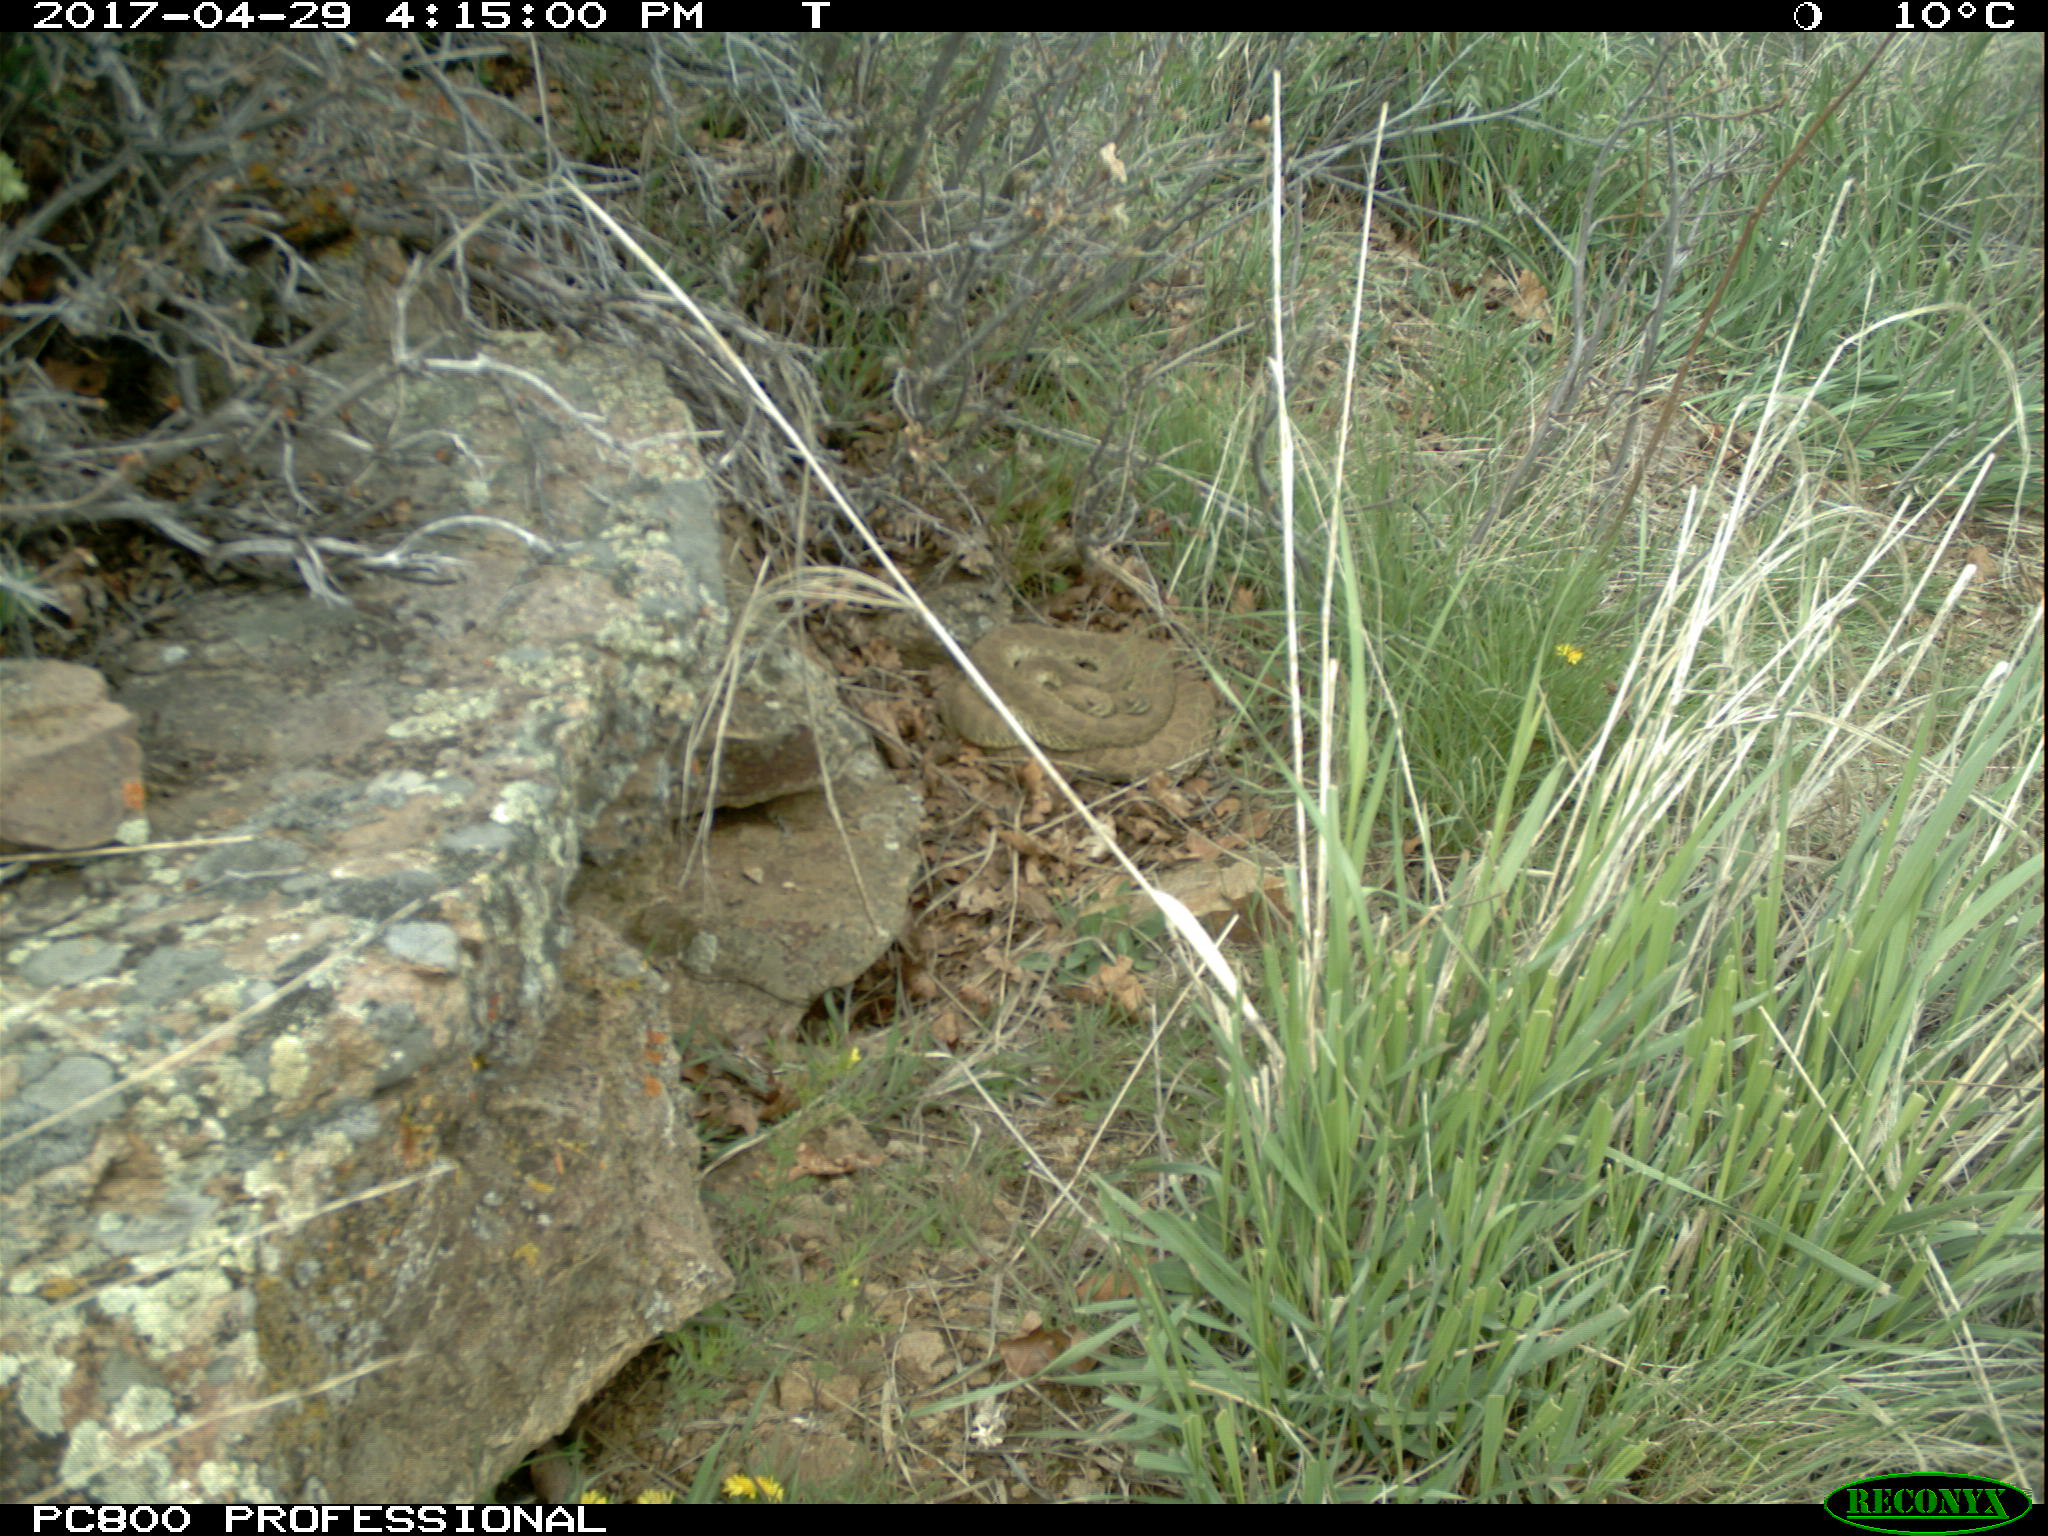snake: (939, 616, 1221, 784)
